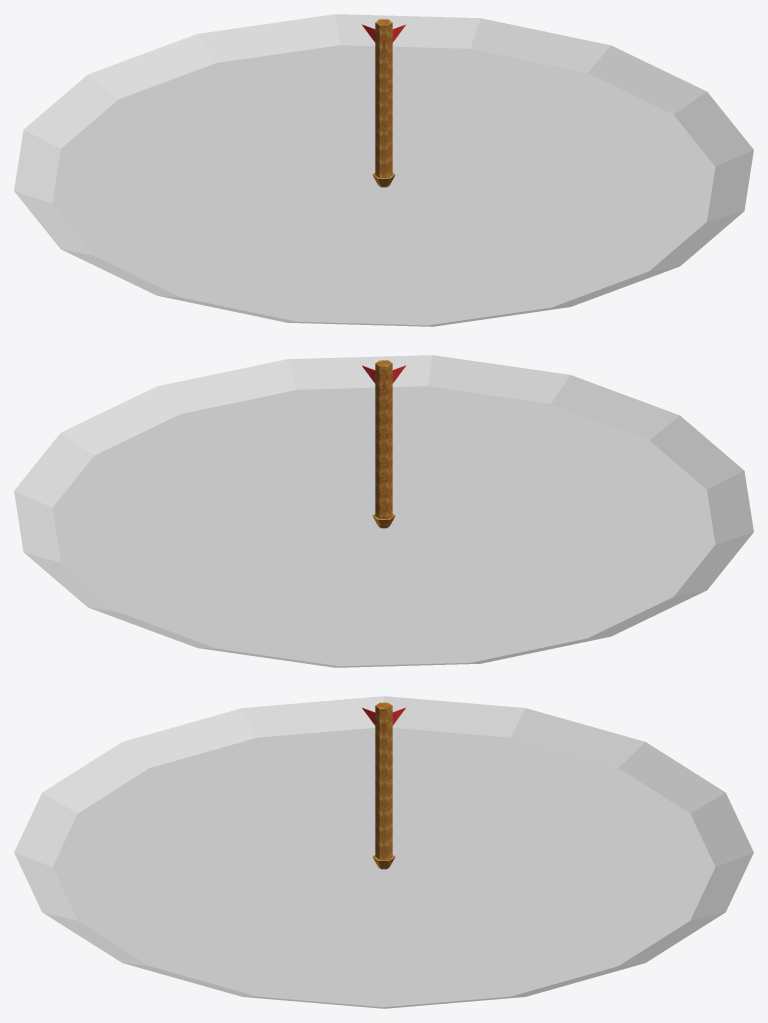
The model's file is Darts and Board.dae.
3 renders of one model, top to bottom at view 1: azimuth 30°, elevation 25°; view 2: azimuth 150°, elevation 25°; view 3: azimuth 270°, elevation 25°, orthographic.
Parts seen in each view (by area): view 1: Circle, Dart; view 2: Circle, Dart; view 3: Circle, Dart.
Boxes of the visible parts, bbox=[...] form: Circle: bbox=[14, 14, 753, 326]; Dart: bbox=[362, 19, 405, 187]; Circle: bbox=[14, 355, 753, 667]; Dart: bbox=[362, 360, 405, 528]; Circle: bbox=[14, 696, 753, 1008]; Dart: bbox=[362, 702, 405, 869].
Size of the model in its own units: 16 by 16 by 4.1.
